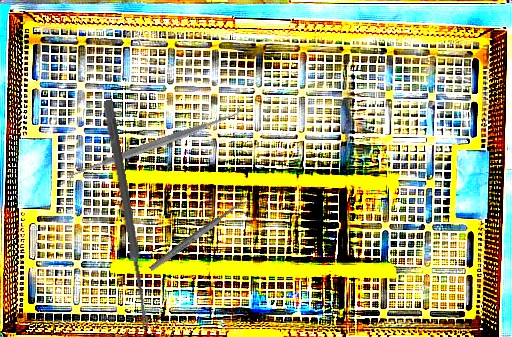Spatula Surgical: (61, 103, 246, 188)
Surgical Spoon: (101, 99, 153, 330), (148, 195, 250, 273)
